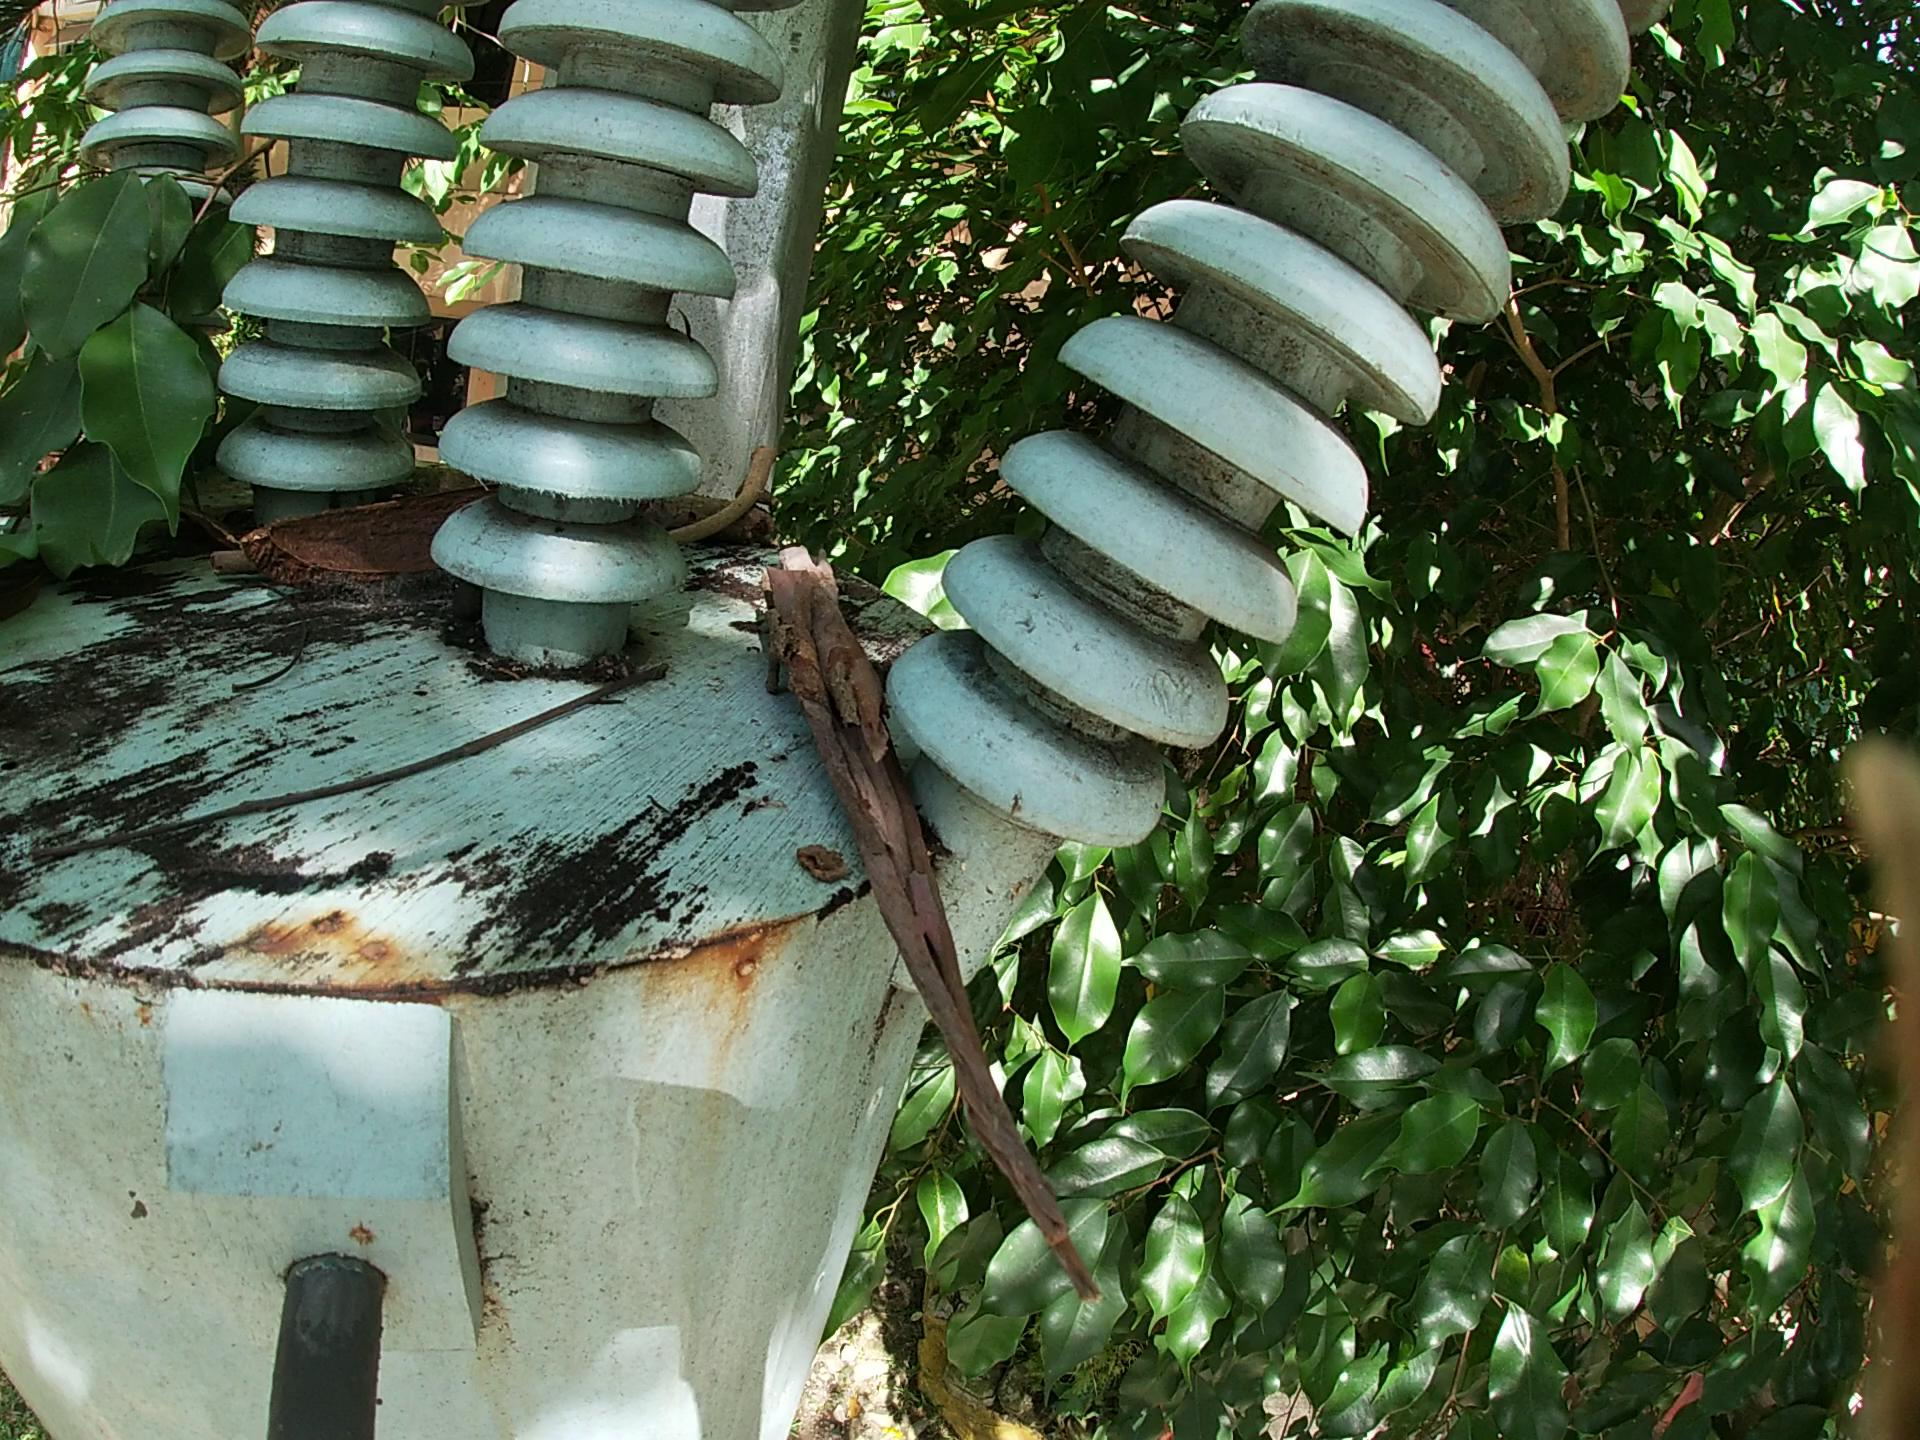branch with leaves: (2, 129, 265, 647)
mahogany fruit: (245, 514, 460, 585)
tree branch: (759, 526, 1114, 1305), (17, 640, 714, 874), (219, 584, 339, 722), (667, 448, 795, 551), (664, 496, 777, 540), (187, 554, 246, 594)
